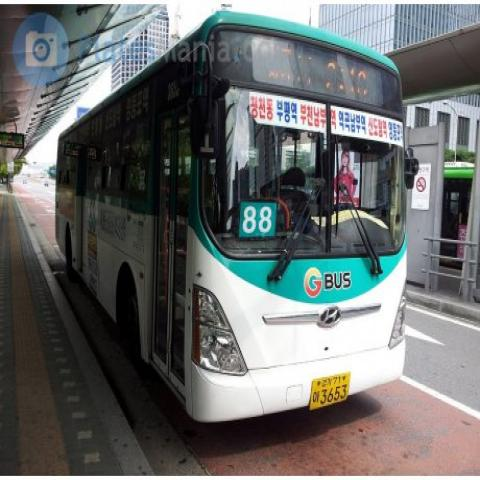LP: (304, 362, 354, 415)
